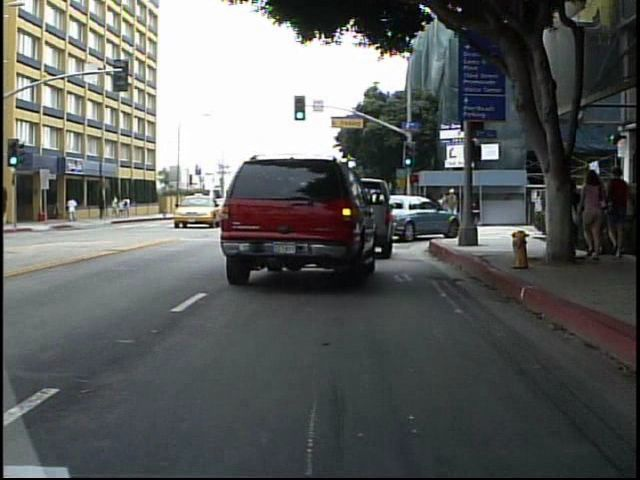person: (576, 169, 607, 266), (606, 167, 635, 261), (446, 186, 463, 229), (66, 194, 81, 225)
